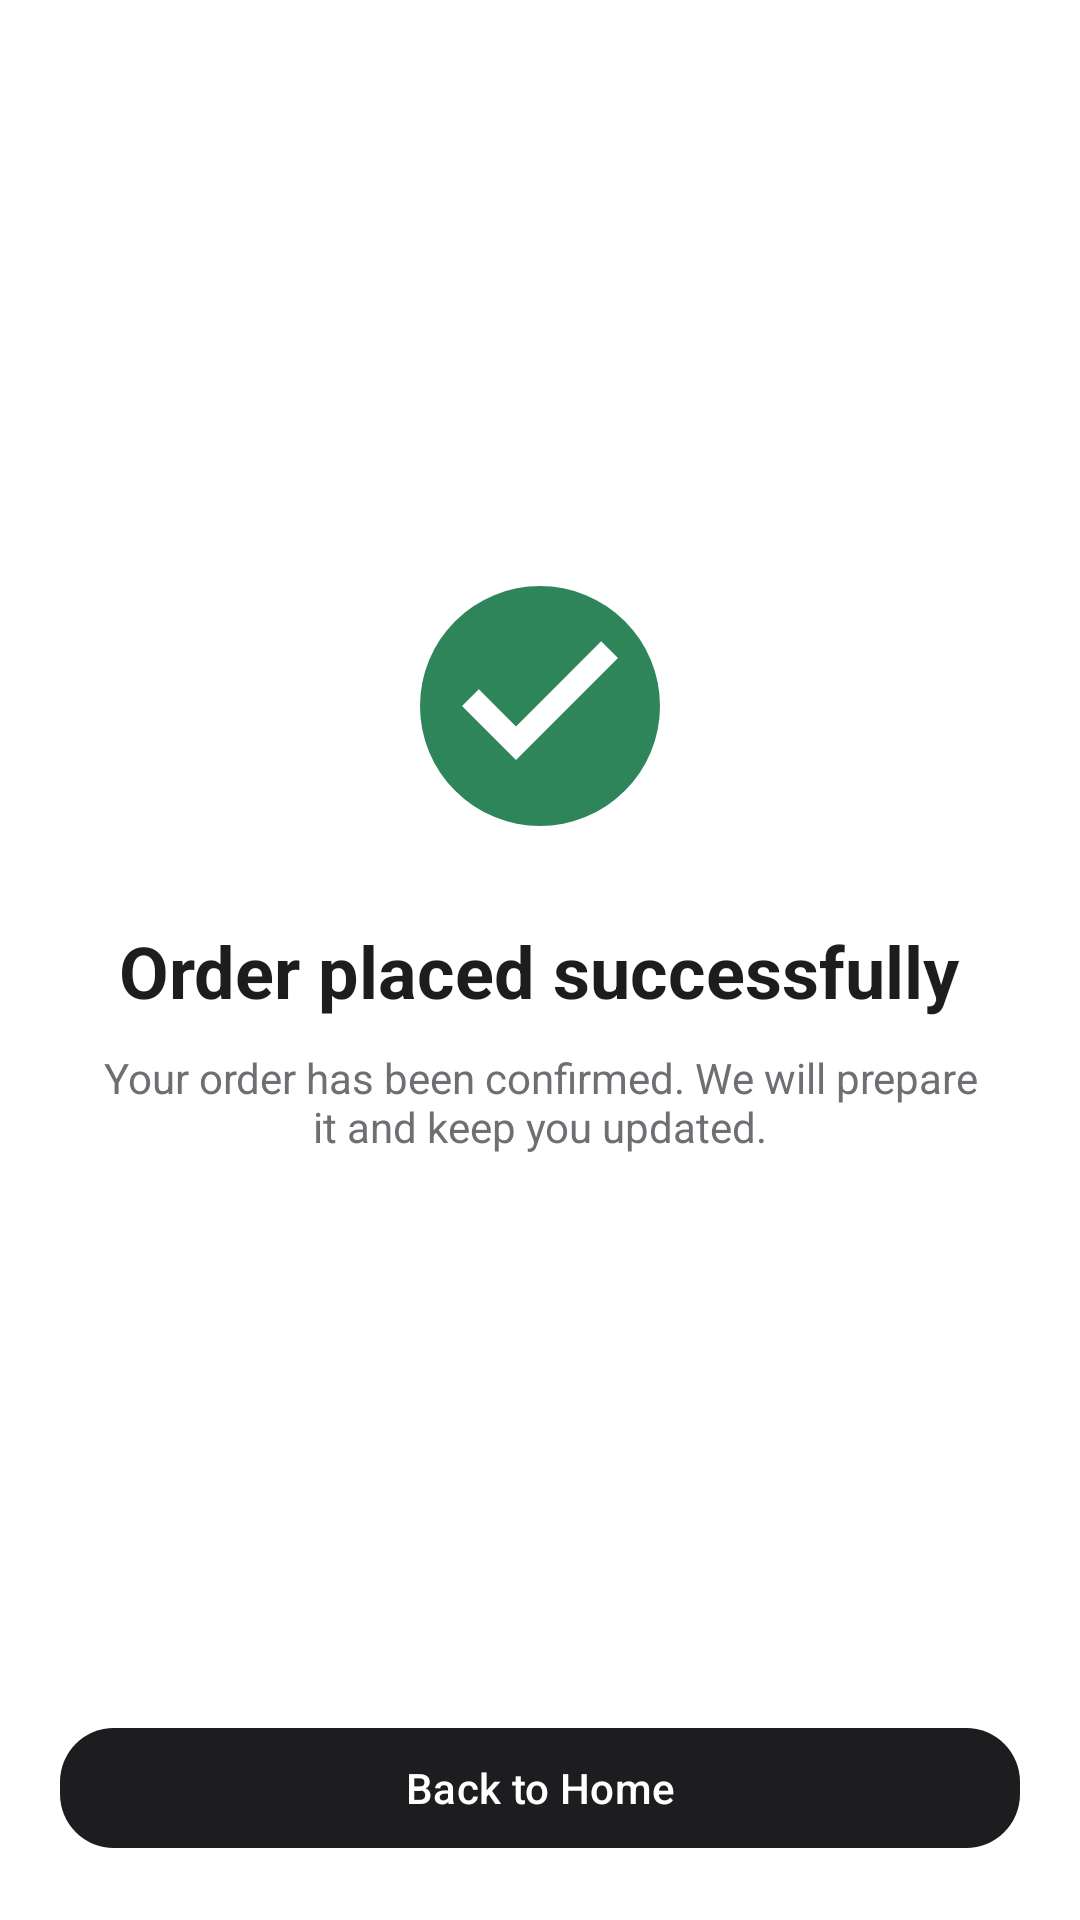

Icons on this 1080x1920 Android screen, each with its box as bbox=(x1, y1, x2, y2):
check circle: bbox=(420, 586, 660, 826)
